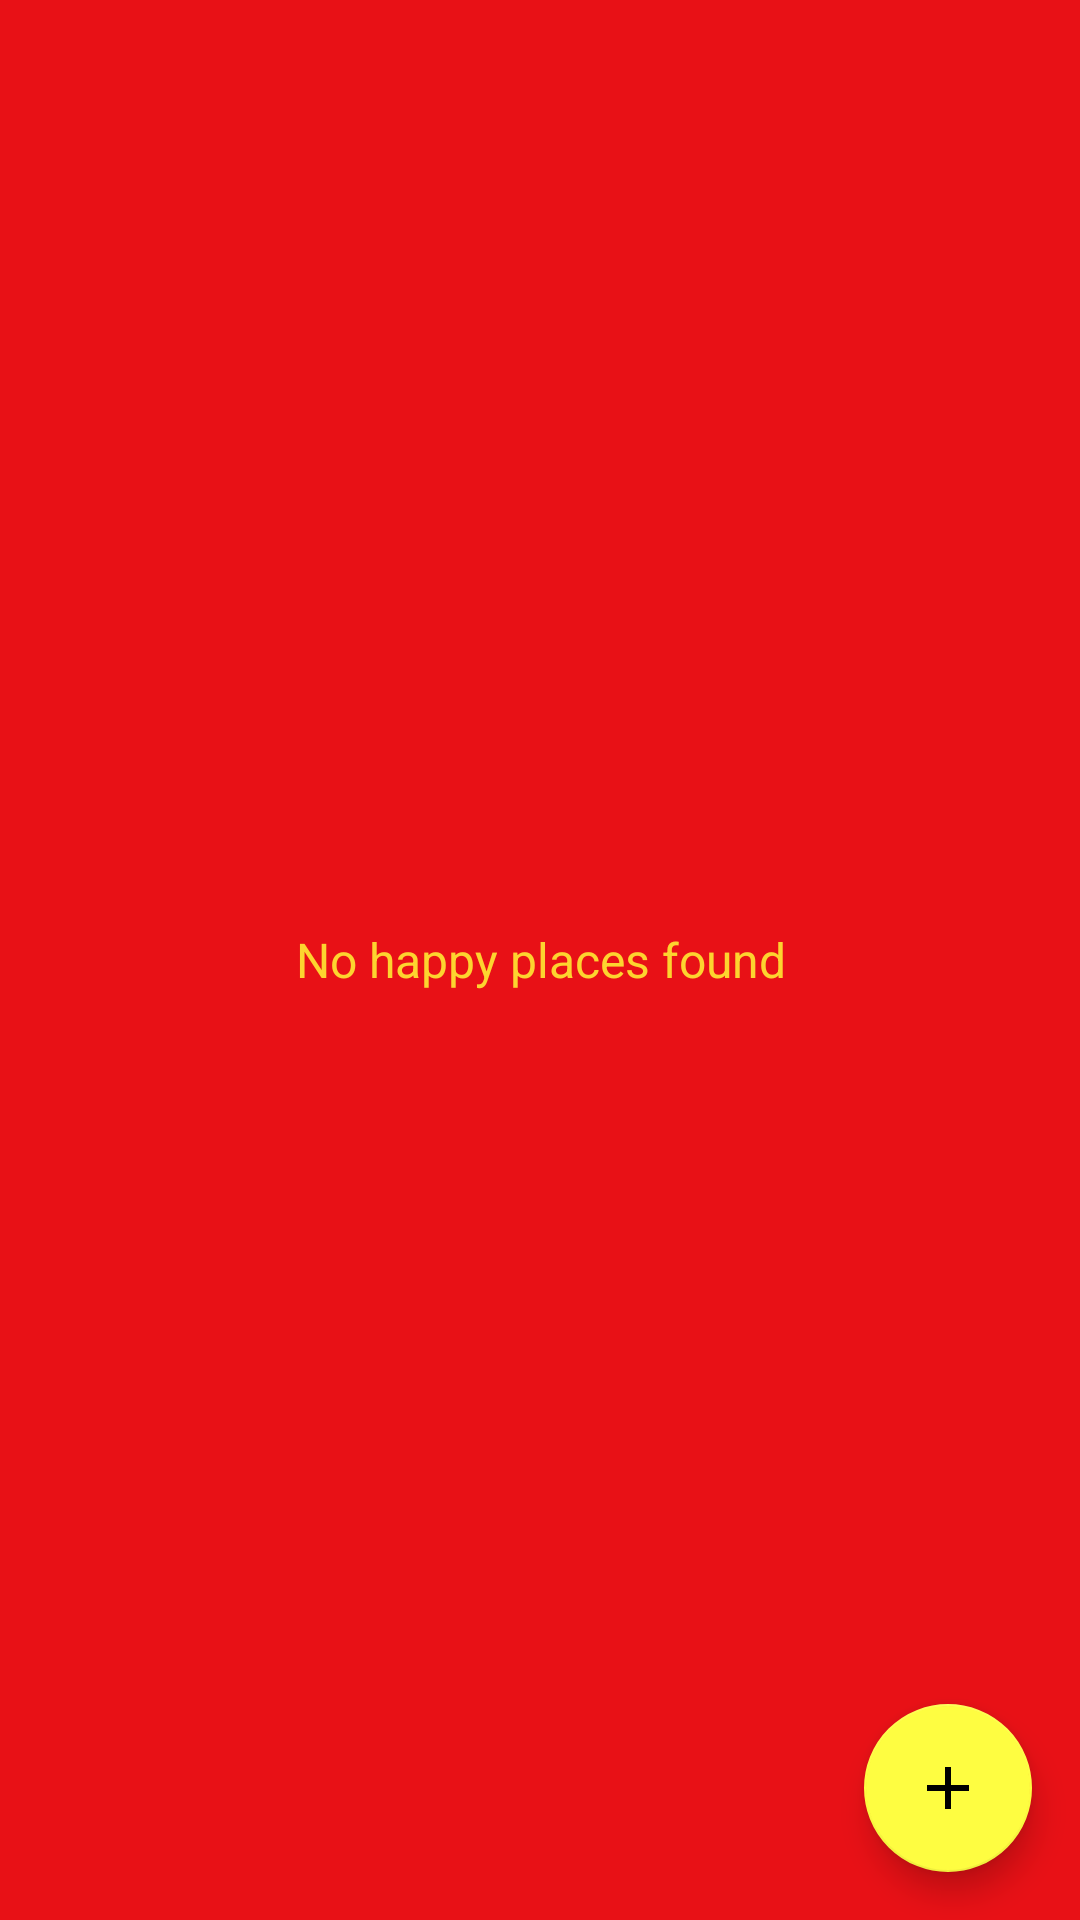

Screen size 1080px×1920px. Icon name, then its center in pixels as point (x, y):
add new happy place: point (948, 1788)
